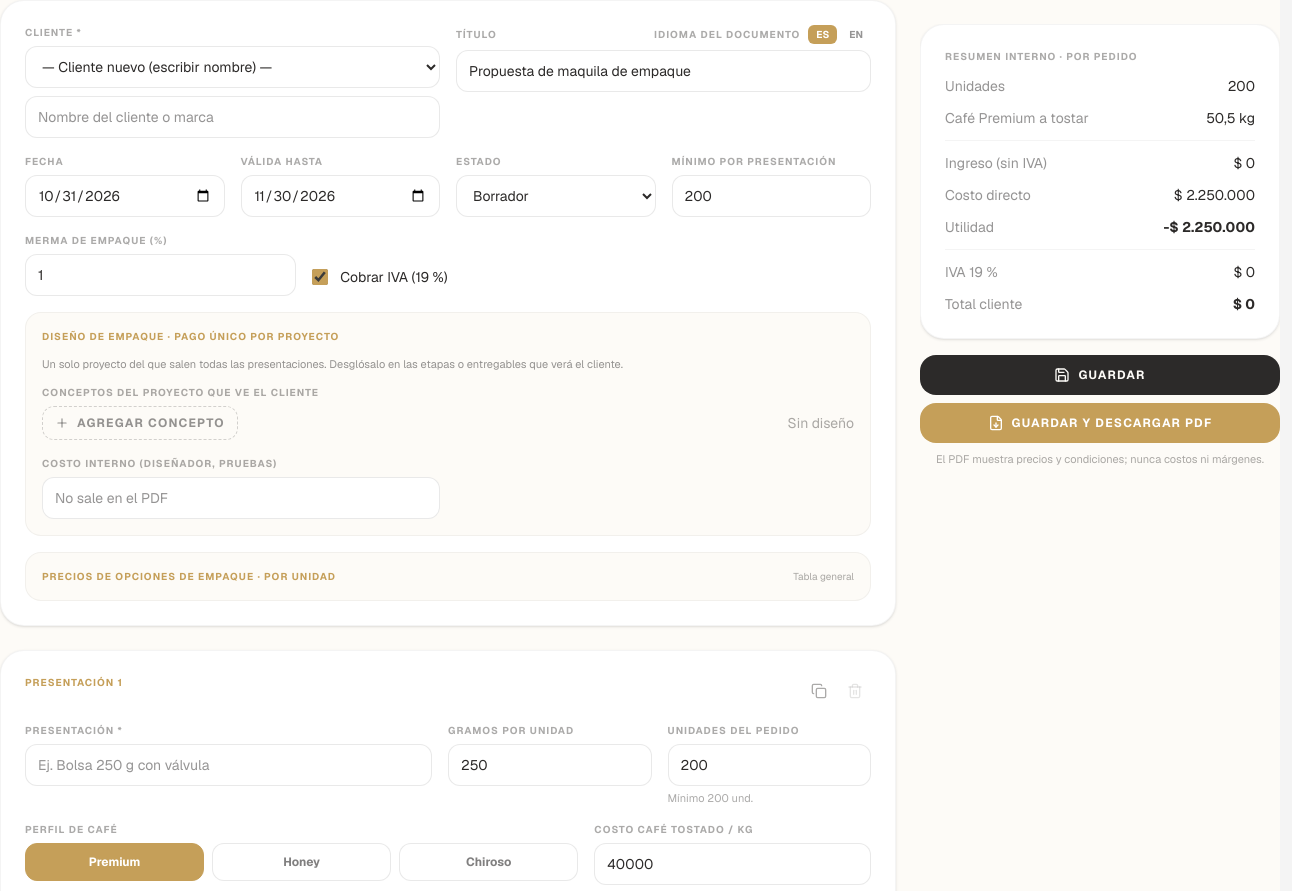
it: MaquilaForm prices › does not save without a price per bag
The image size is (1292, 891).
Type "Bolsa 250" into the field named "Nombre de la presentación" at (228, 764), box x1=25 y1=744 x2=432 y2=786
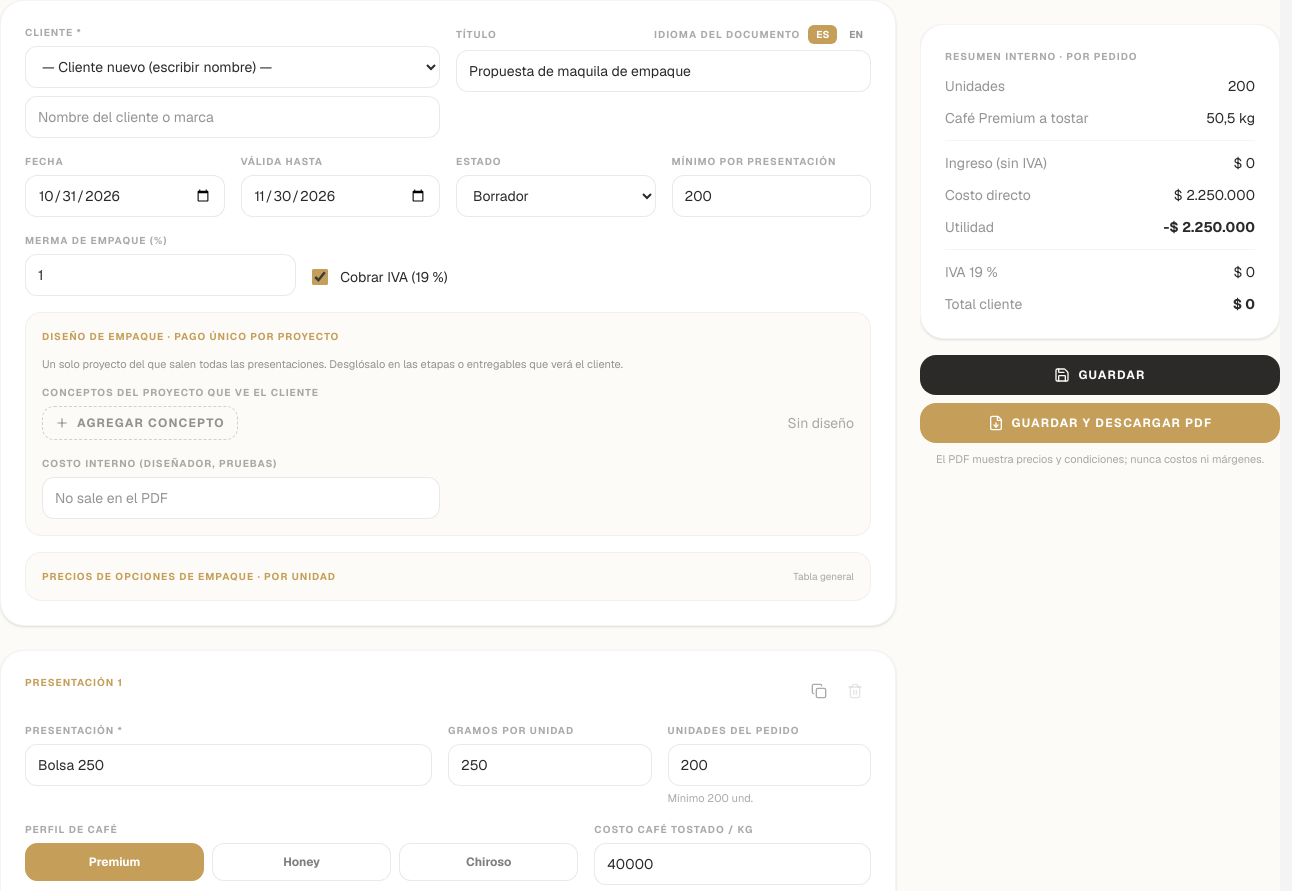
Click the button "Guardar" at (1100, 375), box x1=920 y1=355 x2=1280 y2=395
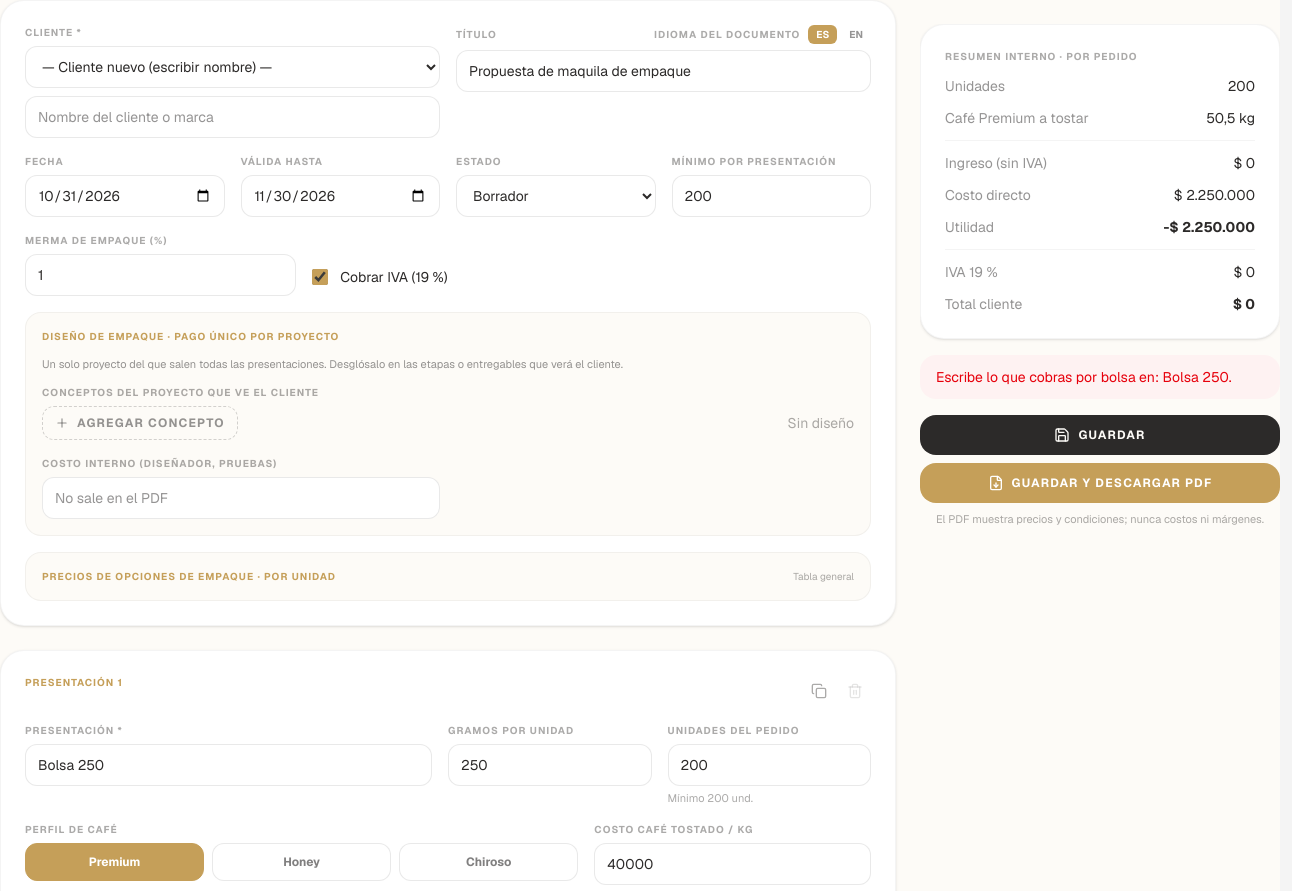
Expected: the text "Escribe lo que cobras por bolsa en: Bolsa 250." is shown, x1=920 y1=355 x2=1280 y2=399
